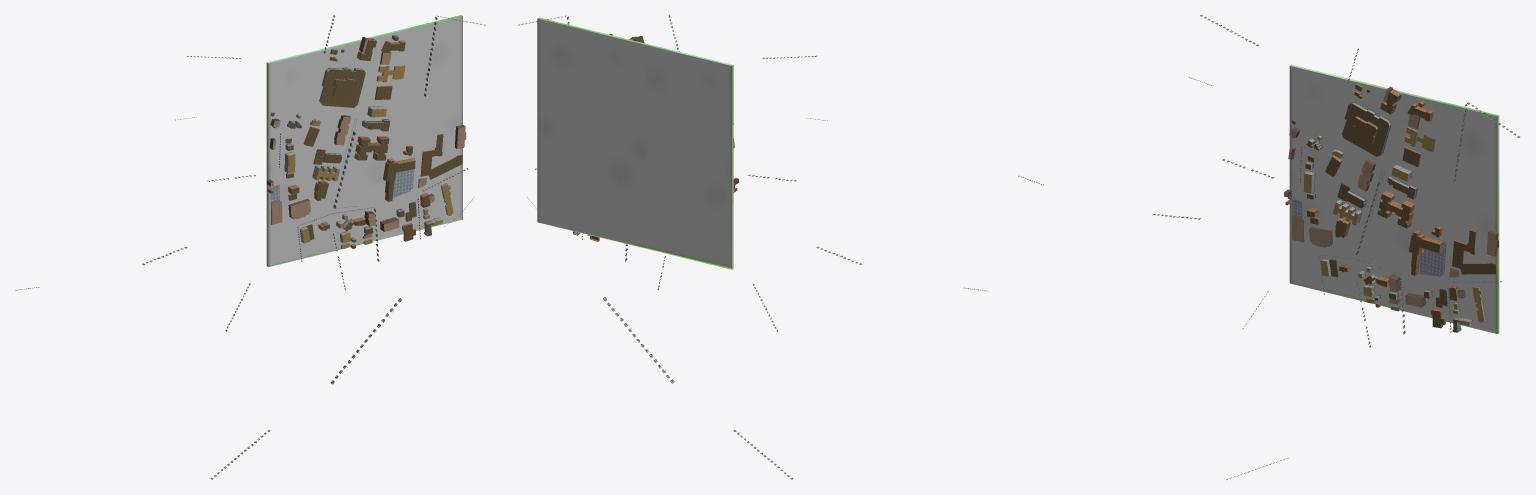
3 views of the same model, side by side, from view 1: azimuth 30°, elevation 25°; view 2: azimuth 150°, elevation 25°; view 3: azimuth 330°, elevation 25° (orthographic). The views are drawn at different scales.
Parts seen in each view (by area): view 1: POLYGON, BUILDING, FONT; view 2: POLYGON, FONT; view 3: POLYGON, BUILDING, FONT.
Part boxes in pixels (left/top/right/bottom): POLYGON: left=266, top=15, right=462, bottom=267; BUILDING: left=266, top=35, right=466, bottom=249; FONT: left=15, top=15, right=485, bottom=479; POLYGON: left=537, top=17, right=733, bottom=269; FONT: left=518, top=15, right=987, bottom=479; POLYGON: left=1289, top=64, right=1499, bottom=333; BUILDING: left=1284, top=83, right=1498, bottom=332; FONT: left=1018, top=15, right=1519, bottom=479.
Bounding box in the file's own units: 1478 × 1304 × 29.
4 materials, 4 textured.
